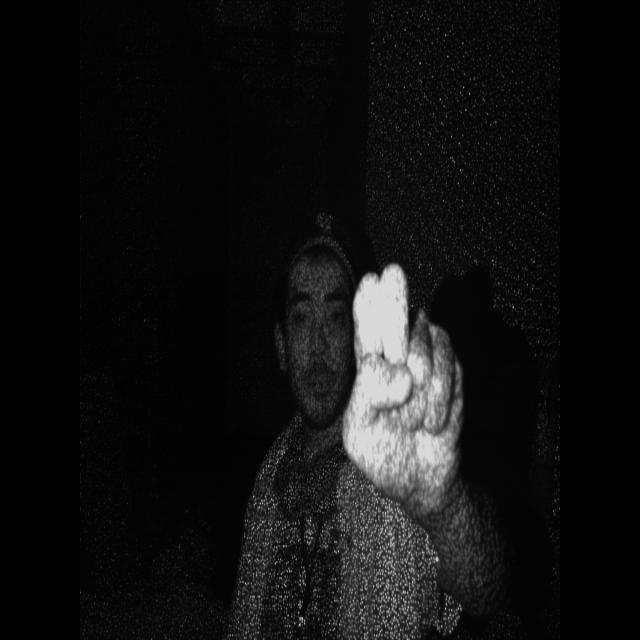S: (337, 250, 490, 542)
